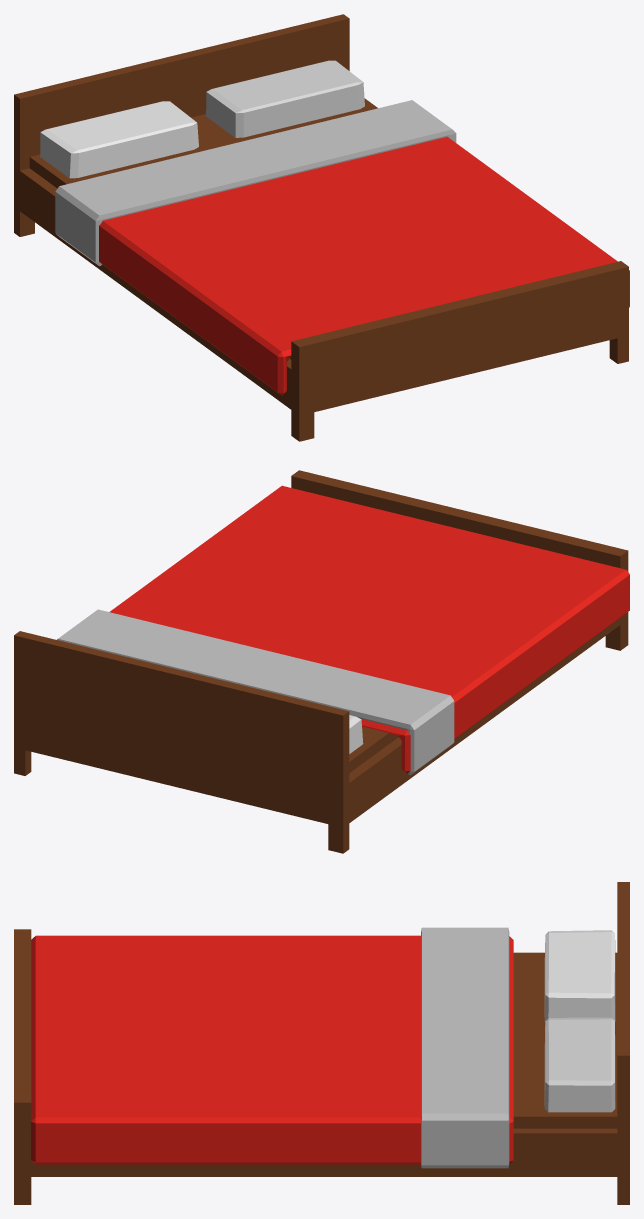
File: bed.gltf
3 views of the same model, one above another, from view 1: azimuth 30°, elevation 25°; view 2: azimuth 150°, elevation 25°; view 3: azimuth 270°, elevation 25° (orthographic). The views are drawn at different scales.
Visible parts, largest first — view 1: Cube.003; view 2: Cube.003; view 3: Cube.003.
Boxes of the visible parts, x1,y1,x2,y2 form: Cube.003: [14, 14, 629, 441]; Cube.003: [14, 470, 629, 853]; Cube.003: [14, 882, 629, 1204].
Size of the model in its own units: 1.39 by 0.509 by 1.9.
